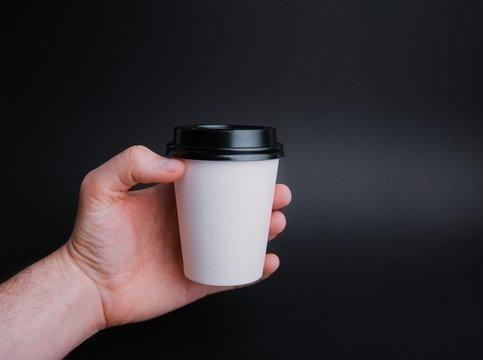cup-disposable: (163, 117, 287, 289)
